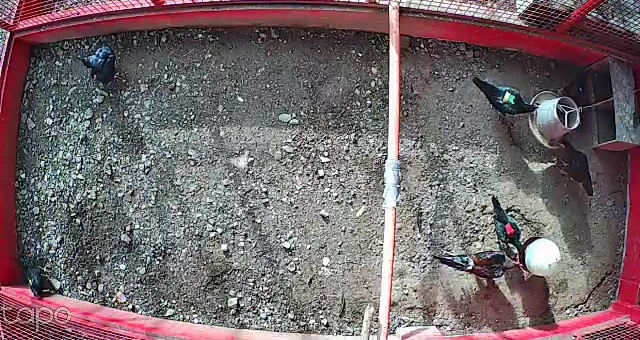Chicken: (549, 134, 600, 203), (472, 72, 539, 123), (484, 192, 527, 262), (17, 256, 66, 308), (77, 42, 126, 86), (547, 65, 597, 108)
Rooster: (429, 244, 528, 283)
Saddle_Color_Red: (504, 222, 517, 235)
Saddle_Color_Yellow: (28, 279, 36, 286)
Saddle_Color_YellowGreen: (503, 92, 515, 105)
